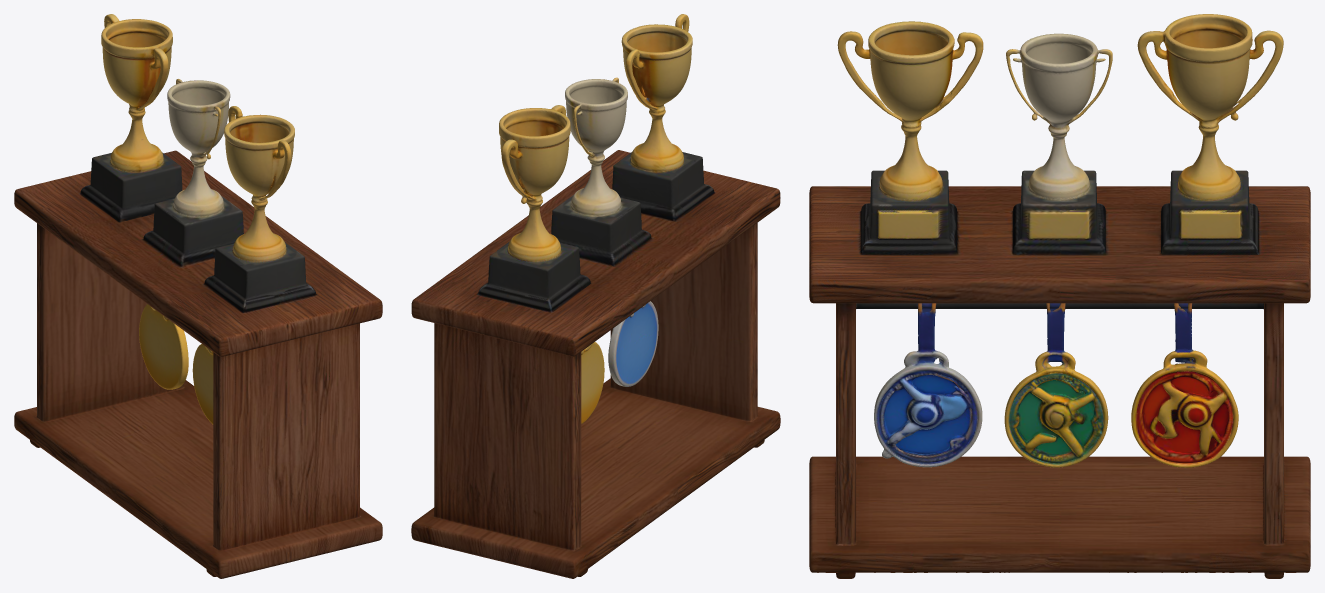
File: trophy_shelf.glb
3 renders of one model, left to right at view 1: azimuth 30°, elevation 25°; view 2: azimuth 150°, elevation 25°; view 3: azimuth 270°, elevation 25°, orthographic. The views are drawn at different scales.
Visible parts, largest first — view 1: tripo_node_d9d2b144-a9e1-4aa2-9774-e7448a37197d; view 2: tripo_node_d9d2b144-a9e1-4aa2-9774-e7448a37197d; view 3: tripo_node_d9d2b144-a9e1-4aa2-9774-e7448a37197d.
Boxes of the visible parts, x1,y1,x2,y2 form: tripo_node_d9d2b144-a9e1-4aa2-9774-e7448a37197d: [14, 14, 382, 578]; tripo_node_d9d2b144-a9e1-4aa2-9774-e7448a37197d: [411, 14, 780, 578]; tripo_node_d9d2b144-a9e1-4aa2-9774-e7448a37197d: [809, 14, 1310, 578].
Bounding box in the file's own units: 0.4152 × 1 × 0.9034.
1 material, 1 textured.
